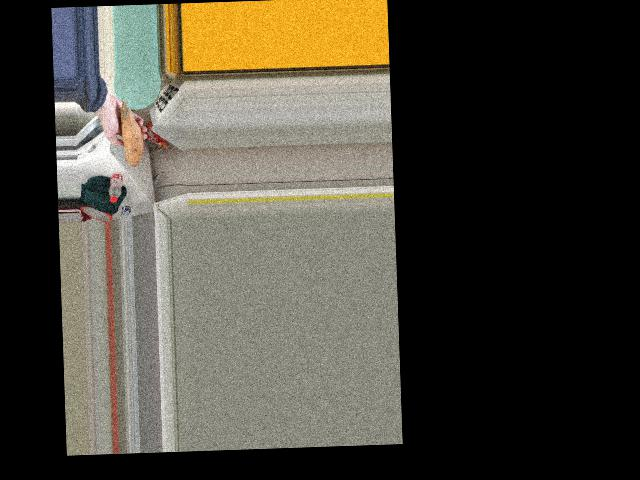sweet_potato: (118, 106, 143, 160)
